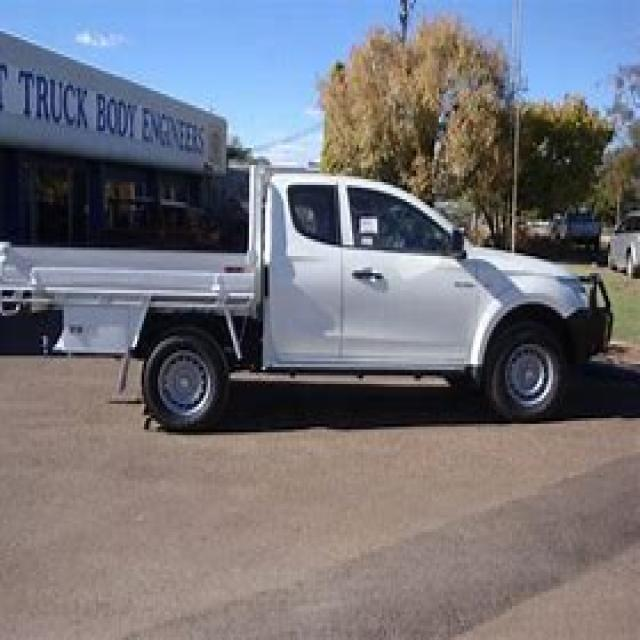light_vehicle: (7, 154, 638, 446)
